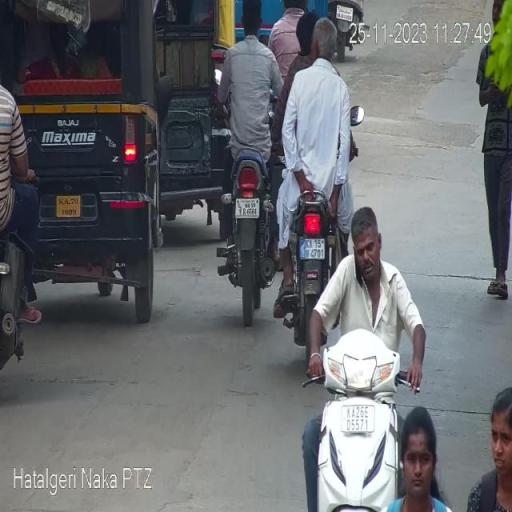using mobile: (352, 238, 362, 294)
